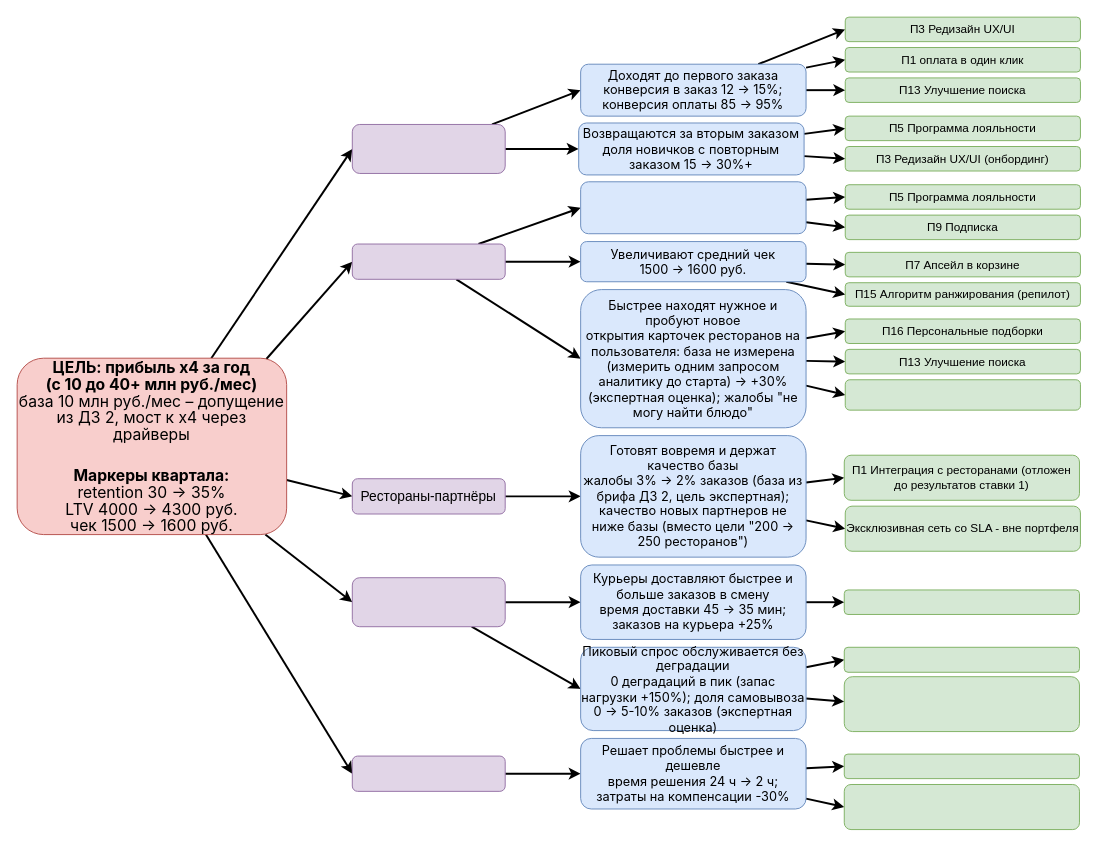
Some shapes in this 1098 by 847 pixel diagram are drawn without their labels. Here are the shapes that lost their labels. From the top down, the box of each, then its label:
(351, 123, 505, 173): Новые пользователи (первые 30 дней)
(580, 181, 806, 234): Заказывают чаще retention 30 -> 35%; frequency x1,4 за год
(351, 243, 505, 279): Постоянные клиенты
(844, 379, 1080, 410): П18 КБЖУ-фильтры - только дешевый тест спроса, не разворот в ЗОЖ
(351, 577, 505, 627): Логистика (курьеры и платформа)
(843, 589, 1079, 614): П2 Умная маршрутизация
(843, 646, 1079, 672): П6 Самовывоз (валидация спроса)
(843, 676, 1079, 732): Аудит пиковой нагрузки (запас +150%) - вне портфеля
(351, 755, 505, 791): Служба поддержки
(843, 753, 1079, 779): П12 Редактор компенсаций
(843, 784, 1079, 830): П8 Чаты с поддержкой Reach - расчет из доли жалоб 3% заказов (допущение из ДЗ 2)
